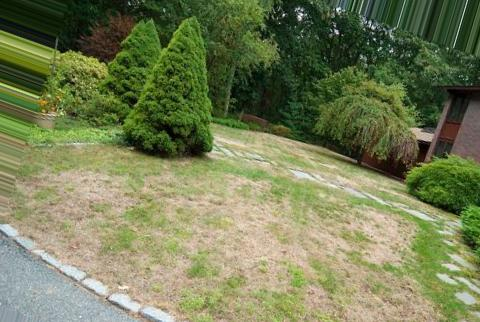patch: (298, 219, 403, 280), (83, 240, 189, 298), (232, 177, 273, 274), (51, 178, 125, 225), (325, 291, 419, 318)
